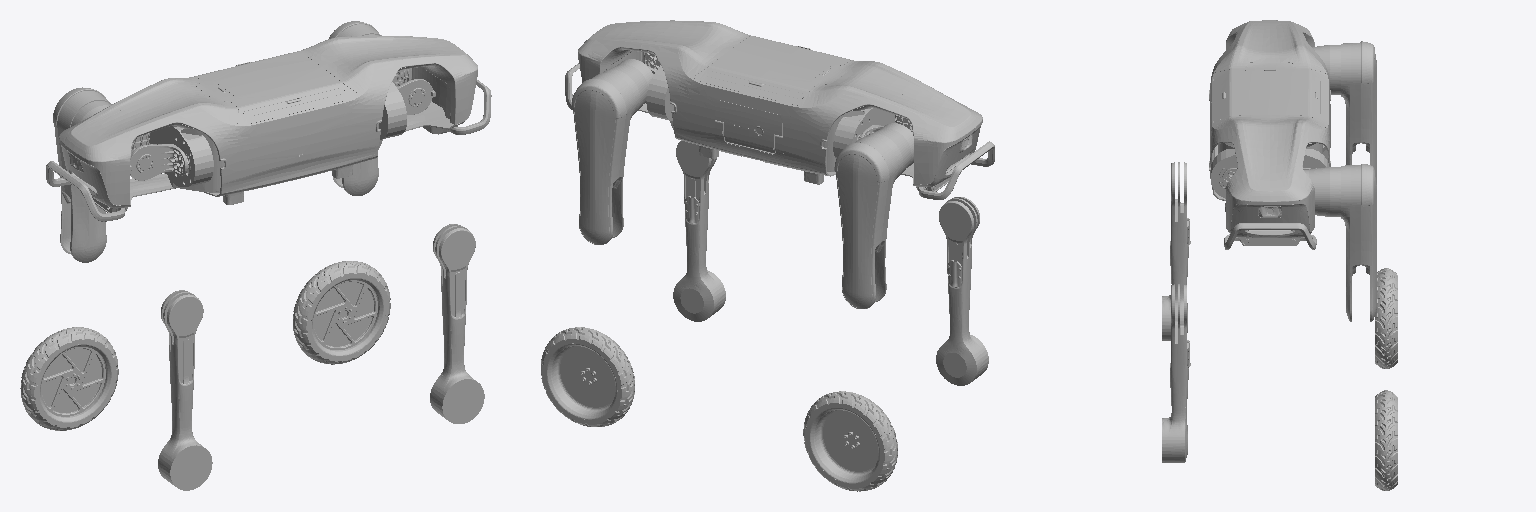
The robot description file, URDF, robot "dobot_quad_wheel":
<?xml version="1.0" ?>
<!-- =================================================================================== -->
<!-- |    This document was autogenerated by xacro from dobot_quad_wheel.xacro         | -->
<!-- |    EDITING THIS FILE BY HAND IS NOT RECOMMENDED                                 | -->
<!-- =================================================================================== -->
<robot name="dobot_quad_wheel">
  <mujoco>
    <compiler balanceinertia="true" discardvisual="false" meshdir="../meshes/"/>
  </mujoco>
  <!-- <link name="world">
</link> -->
  <link name="link_trunk">
    <inertial>
      <origin rpy="0 0 0" xyz="0.002447 0.00046 0.002851"/>
      <mass value="10.249"/>
      <inertia ixx="45881.970E-06" ixy="16.957E-06" ixz="177.574E-06" iyy="247797.819E-06" iyz="41.872E-06" izz="268476.829E-06"/>
    </inertial>
    <visual>
      <origin rpy="0 0 0" xyz="0 0 0"/>
      <geometry>
        <mesh filename="package://dobot_quad_wheel/meshes/trunk.STL" scale="1 1 1"/>
      </geometry>
      <material name="">
        <color rgba="0.752941176470588 0.752941176470588 0.752941176470588 1"/>
      </material>
    </visual>
    <collision>
      <origin rpy="0 0 0" xyz="0 0 0"/>
      <geometry>
        <box size="0.70 0.18 0.12"/>
      </geometry>
    </collision>
  </link>
  <!-- <joint name="joint_fixed_world" type="floating">
    <origin rpy="0 0 0" xyz="0 0 0.5"/>
    <parent link="world"/>
    <child link="link_trunk"/>
  </joint> -->
  <link name="link_front_left_hip">
    <inertial>
      <origin rpy="0 0 0" xyz="-0.02418 -0.01744 0.0"/>
      <mass value="0.05576"/>
      <inertia ixx="21.088E-06" ixy="1.169e-05" ixz="0.0" iyy="52.90E-06" iyz="0.0" izz="50.03E-06"/>
    </inertial>
    <visual>
      <origin rpy="0 0 0" xyz="0 0 0"/>
      <geometry>
        <mesh filename="package://dobot_quad_wheel/meshes/hip.STL" scale="1 1 1"/>
      </geometry>
      <material name="">
        <color rgba="0.752941176470588 0.752941176470588 0.752941176470588 1"/>
      </material>
    </visual>
    <collision>
      <origin rpy="1.5708 0 0" xyz="0 0.08 0"/>
      <geometry>
        <cylinder length="0.04" radius="0.048"/>
      </geometry>
    </collision>
  </link>
  <joint name="joint_front_left_abad" type="revolute">
    <origin rpy="0 0 0" xyz="0.2525 0.062 0"/>
    <parent link="link_trunk"/>
    <child link="link_front_left_hip"/>
    <axis xyz="1 0 0"/>
    <limit effort="23" lower="-0.6632" upper="0.6632" velocity="21"/>
    <armature value="0.01"/>
  </joint>
  <link name="link_front_left_thigh">
    <inertial>
      <origin rpy="0 0 0" xyz="0.00144 -0.04127 -0.02940"/>
      <mass value="1.71551"/>
      <inertia ixx="10737.08420E-06" ixy="-8.637171e-05" ixz="0.00021687284" iyy="8548.74788E-06" iyz="0.00213125546" izz="3618.27220E-06"/>
    </inertial>
    <visual>
      <origin rpy="0 0 0" xyz="0 0 0"/>
      <!-- <geometry>
       <mesh filename="package://dobot_quad_wheel/meshes/thigh.STL" scale="1 ${1*y_sign} 1" />
     </geometry> -->
      <geometry>
        <mesh filename="package://dobot_quad_wheel/meshes/thigh_l.STL" scale="1 1 1"/>
      </geometry>
      <material name="">
        <color rgba="0.752941176470588 0.752941176470588 0.752941176470588 1"/>
      </material>
    </visual>
    <collision>
      <origin rpy="0 1.5708 0" xyz="0.0 0.0 -0.1075"/>
      <geometry>
        <box size="0.215 0.04 0.06"/>
      </geometry>
    </collision>
  </link>
  <joint name="joint_front_left_thigh_pitch" type="revolute">
    <origin rpy="0 0 0" xyz="0.0  0.097 0.0"/>
    <parent link="link_front_left_hip"/>
    <child link="link_front_left_thigh"/>
    <axis xyz="0 1 0"/>
    <limit effort="23" lower="-2.618" upper="2.618" velocity="23"/>
    <armature value="0.01"/>
  </joint>
  <link name="link_front_left_calf">
    <inertial>
      <origin rpy="0 0 0" xyz="0.0 0.01 -0.202"/>
      <mass value="0.641"/>
      <inertia ixx="6643.060E-06" ixy="0.405E-06" ixz="-1.140E-06" iyy="6732.526E-06" iyz="0.000421766" izz="318.170E-06"/>
    </inertial>
    <visual>
      <origin rpy="0 0 0" xyz="0 0 0"/>
      <!-- <geometry>
       <mesh
         filename="package://dobot_quad_wheel/meshes/calf.STL" scale="1 1 1" />
     </geometry> -->
      <geometry>
        <mesh filename="package://dobot_quad_wheel/meshes/calf_l.STL" scale="1 1 1"/>
      </geometry>
      <material name="">
        <color rgba="0.752941176470588 0.752941176470588 0.752941176470588 1"/>
      </material>
    </visual>
    <collision>
      <origin rpy="0 0 0" xyz="0.0 0.0 -0.12"/>
      <geometry>
        <cylinder length="0.265" radius="0.02"/>
      </geometry>
    </collision>
    <!--   <collision>
     <origin rpy="0 0 0" xyz="0.018 0 -0.16" />
     <geometry>
       <cylinder length="0.065" radius="0.011" />
     </geometry>
   </collision>-->
  </link>
  <joint name="joint_front_left_calf_pitch" type="revolute">
    <origin rpy="0 0 0" xyz="0.0 0.0 -0.215"/>
    <parent link="link_front_left_thigh"/>
    <child link="link_front_left_calf"/>
    <axis xyz="0 1 0"/>
    <limit effort="55" lower="-2.53" upper="2.53" velocity="21"/>
    <armature value="0.025"/>
  </joint>
  <link name="link_front_left_wheel">
    <inertial>
      <origin rpy="0 0 0" xyz="0 0.009 0"/>
      <mass value="0.546"/>
      <inertia ixx="1361.419E-06" ixy="0" ixz="0" iyy="2586.621E-06" iyz="0" izz="1361.554E-06"/>
    </inertial>
    <visual>
      <origin rpy="0 0 0" xyz="0 0 0"/>
      <!-- <geometry>
       <mesh
         filename="package://dobot_quad_wheel/meshes/wheel.STL" scale="1 1 1" />
     </geometry> -->
      <geometry>
        <mesh filename="package://dobot_quad_wheel/meshes/wheel_l.STL" scale="1 1 1"/>
      </geometry>
      <material name="">
        <color rgba="0.752941176470588 0.752941176470588 0.752941176470588 1"/>
      </material>
    </visual>
    <collision>
      <origin rpy="1.5707963267948966 0 0" xyz="0 0.014 0"/>
      <geometry>
        <cylinder length="0.037" radius="0.0875"/>
      </geometry>
    </collision>
  </link>
  <joint name="joint_front_left_wheel" type="continuous">
    <origin rpy="0 0 0" xyz="0 0.0335 -0.265"/>
    <parent link="link_front_left_calf"/>
    <child link="link_front_left_wheel"/>
    <axis xyz="0 1 0"/>
    <limit effort="20" velocity="30"/>
    <armature value="0.002"/>
  </joint>
  <link name="link_front_right_hip">
    <inertial>
      <origin rpy="0 0 0" xyz="-0.02418 0.01744 0.0"/>
      <mass value="0.05576"/>
      <inertia ixx="21.088E-06" ixy="-1.169e-05" ixz="0.0" iyy="52.90E-06" iyz="-0.0" izz="50.03E-06"/>
    </inertial>
    <visual>
      <origin rpy="3.141592653589793 0 0" xyz="0 0 0"/>
      <geometry>
        <mesh filename="package://dobot_quad_wheel/meshes/hip.STL" scale="1 1 1"/>
      </geometry>
      <material name="">
        <color rgba="0.752941176470588 0.752941176470588 0.752941176470588 1"/>
      </material>
    </visual>
    <collision>
      <origin rpy="1.5708 0 0" xyz="0 -0.08 0"/>
      <geometry>
        <cylinder length="0.04" radius="0.048"/>
      </geometry>
    </collision>
  </link>
  <joint name="joint_front_right_abad" type="revolute">
    <origin rpy="0 0 0" xyz="0.2525 -0.062 0"/>
    <parent link="link_trunk"/>
    <child link="link_front_right_hip"/>
    <axis xyz="1 0 0"/>
    <limit effort="23" lower="-0.6632" upper="0.6632" velocity="21"/>
    <armature value="0.01"/>
  </joint>
  <link name="link_front_right_thigh">
    <inertial>
      <origin rpy="0 0 0" xyz="0.00144 0.04127 -0.02940"/>
      <mass value="1.71551"/>
      <inertia ixx="10737.08420E-06" ixy="8.637171e-05" ixz="0.00021687284" iyy="8548.74788E-06" iyz="-0.00213125546" izz="3618.27220E-06"/>
    </inertial>
    <visual>
      <origin rpy="0 0 0" xyz="0 0 0"/>
      <!-- <geometry>
       <mesh filename="package://dobot_quad_wheel/meshes/thigh.STL" scale="1 ${1*y_sign} 1" />
     </geometry> -->
      <geometry>
        <mesh filename="package://dobot_quad_wheel/meshes/thigh_r.STL" scale="1 -1 1"/>
      </geometry>
      <material name="">
        <color rgba="0.752941176470588 0.752941176470588 0.752941176470588 1"/>
      </material>
    </visual>
    <collision>
      <origin rpy="0 1.5708 0" xyz="0.0 0.0 -0.1075"/>
      <geometry>
        <box size="0.215 0.04 0.06"/>
      </geometry>
    </collision>
  </link>
  <joint name="joint_front_right_thigh_pitch" type="revolute">
    <origin rpy="0 0 0" xyz="0.0  -0.097 0.0"/>
    <parent link="link_front_right_hip"/>
    <child link="link_front_right_thigh"/>
    <axis xyz="0 1 0"/>
    <limit effort="23" lower="-2.618" upper="2.618" velocity="23"/>
    <armature value="0.01"/>
  </joint>
  <link name="link_front_right_calf">
    <inertial>
      <origin rpy="0 0 0" xyz="0.0 -0.01 -0.202"/>
      <mass value="0.641"/>
      <inertia ixx="6643.060E-06" ixy="0.405E-06" ixz="-1.140E-06" iyy="6732.526E-06" iyz="-0.000421766" izz="318.170E-06"/>
    </inertial>
    <visual>
      <origin rpy="0 0 0" xyz="0 0 0"/>
      <!-- <geometry>
       <mesh
         filename="package://dobot_quad_wheel/meshes/calf.STL" scale="1 1 1" />
     </geometry> -->
      <geometry>
        <mesh filename="package://dobot_quad_wheel/meshes/calf_r.STL" scale="1 -1 1"/>
      </geometry>
      <material name="">
        <color rgba="0.752941176470588 0.752941176470588 0.752941176470588 1"/>
      </material>
    </visual>
    <collision>
      <origin rpy="0 0 0" xyz="0.0 0.0 -0.12"/>
      <geometry>
        <cylinder length="0.265" radius="0.02"/>
      </geometry>
    </collision>
    <!--   <collision>
     <origin rpy="0 0 0" xyz="0.018 0 -0.16" />
     <geometry>
       <cylinder length="0.065" radius="0.011" />
     </geometry>
   </collision>-->
  </link>
  <joint name="joint_front_right_calf_pitch" type="revolute">
    <origin rpy="0 0 0" xyz="0.0 0.0 -0.215"/>
    <parent link="link_front_right_thigh"/>
    <child link="link_front_right_calf"/>
    <axis xyz="0 1 0"/>
    <limit effort="55" lower="-2.53" upper="2.53" velocity="21"/>
    <armature value="0.025"/>
  </joint>
  <link name="link_front_right_wheel">
    <inertial>
      <origin rpy="0 0 0" xyz="0 -0.009 0"/>
      <mass value="0.546"/>
      <inertia ixx="1361.419E-06" ixy="0" ixz="0" iyy="2586.621E-06" iyz="0" izz="1361.554E-06"/>
    </inertial>
    <visual>
      <origin rpy="0 0 0" xyz="0 0 0"/>
      <!-- <geometry>
       <mesh
         filename="package://dobot_quad_wheel/meshes/wheel.STL" scale="1 1 1" />
     </geometry> -->
      <geometry>
        <mesh filename="package://dobot_quad_wheel/meshes/wheel_r.STL" scale="1 -1 1"/>
      </geometry>
      <material name="">
        <color rgba="0.752941176470588 0.752941176470588 0.752941176470588 1"/>
      </material>
    </visual>
    <collision>
      <origin rpy="1.5707963267948966 0 0" xyz="0 -0.014 0"/>
      <geometry>
        <cylinder length="0.037" radius="0.0875"/>
      </geometry>
    </collision>
  </link>
  <joint name="joint_front_right_wheel" type="continuous">
    <origin rpy="0 0 0" xyz="0 -0.0335 -0.265"/>
    <parent link="link_front_right_calf"/>
    <child link="link_front_right_wheel"/>
    <axis xyz="0 1 0"/>
    <limit effort="20" velocity="30"/>
    <armature value="0.002"/>
  </joint>
  <link name="link_rear_left_hip">
    <inertial>
      <origin rpy="0 0 0" xyz="0.02418 -0.01744 0.0"/>
      <mass value="0.05576"/>
      <inertia ixx="21.088E-06" ixy="-1.169e-05" ixz="-0.0" iyy="52.90E-06" iyz="0.0" izz="50.03E-06"/>
    </inertial>
    <visual>
      <origin rpy="0 3.141592653589793 0" xyz="0 0 0"/>
      <geometry>
        <mesh filename="package://dobot_quad_wheel/meshes/hip.STL" scale="1 1 1"/>
      </geometry>
      <material name="">
        <color rgba="0.752941176470588 0.752941176470588 0.752941176470588 1"/>
      </material>
    </visual>
    <collision>
      <origin rpy="1.5708 0 0" xyz="0 0.08 0"/>
      <geometry>
        <cylinder length="0.04" radius="0.048"/>
      </geometry>
    </collision>
  </link>
  <joint name="joint_rear_left_abad" type="revolute">
    <origin rpy="0 0 0" xyz="-0.2525 0.062 0"/>
    <parent link="link_trunk"/>
    <child link="link_rear_left_hip"/>
    <axis xyz="1 0 0"/>
    <limit effort="23" lower="-0.6632" upper="0.6632" velocity="21"/>
    <armature value="0.01"/>
  </joint>
  <link name="link_rear_left_thigh">
    <inertial>
      <origin rpy="0 0 0" xyz="-0.00144 -0.04127 -0.02940"/>
      <mass value="1.71551"/>
      <inertia ixx="10737.08420E-06" ixy="8.637171e-05" ixz="-0.00021687284" iyy="8548.74788E-06" iyz="0.00213125546" izz="3618.27220E-06"/>
    </inertial>
    <visual>
      <origin rpy="0 0 0" xyz="0 0 0"/>
      <!-- <geometry>
       <mesh filename="package://dobot_quad_wheel/meshes/thigh.STL" scale="1 ${1*y_sign} 1" />
     </geometry> -->
      <geometry>
        <mesh filename="package://dobot_quad_wheel/meshes/thigh_l.STL" scale="1 1 1"/>
      </geometry>
      <material name="">
        <color rgba="0.752941176470588 0.752941176470588 0.752941176470588 1"/>
      </material>
    </visual>
    <collision>
      <origin rpy="0 1.5708 0" xyz="0.0 0.0 -0.1075"/>
      <geometry>
        <box size="0.215 0.04 0.06"/>
      </geometry>
    </collision>
  </link>
  <joint name="joint_rear_left_thigh_pitch" type="revolute">
    <origin rpy="0 0 0" xyz="-0.0  0.097 0.0"/>
    <parent link="link_rear_left_hip"/>
    <child link="link_rear_left_thigh"/>
    <axis xyz="0 1 0"/>
    <limit effort="23" lower="-2.618" upper="2.618" velocity="21"/>
    <armature value="0.01"/>
  </joint>
  <link name="link_rear_left_calf">
    <inertial>
      <origin rpy="0 0 0" xyz="0.0 0.01 -0.202"/>
      <mass value="0.641"/>
      <inertia ixx="6643.060E-06" ixy="0.405E-06" ixz="-1.140E-06" iyy="6732.526E-06" iyz="0.000421766" izz="318.170E-06"/>
    </inertial>
    <visual>
      <origin rpy="0 0 0" xyz="0 0 0"/>
      <!-- <geometry>
       <mesh
         filename="package://dobot_quad_wheel/meshes/calf.STL" scale="1 1 1" />
     </geometry> -->
      <geometry>
        <mesh filename="package://dobot_quad_wheel/meshes/calf_l.STL" scale="1 1 1"/>
      </geometry>
      <material name="">
        <color rgba="0.752941176470588 0.752941176470588 0.752941176470588 1"/>
      </material>
    </visual>
    <collision>
      <origin rpy="0 0 0" xyz="0.0 0.0 -0.12"/>
      <geometry>
        <cylinder length="0.265" radius="0.02"/>
      </geometry>
    </collision>
    <!--   <collision>
     <origin rpy="0 0 0" xyz="0.018 0 -0.16" />
     <geometry>
       <cylinder length="0.065" radius="0.011" />
     </geometry>
   </collision>-->
  </link>
  <joint name="joint_rear_left_calf_pitch" type="revolute">
    <origin rpy="0 0 0" xyz="0.0 0.0 -0.215"/>
    <parent link="link_rear_left_thigh"/>
    <child link="link_rear_left_calf"/>
    <axis xyz="0 1 0"/>
    <limit effort="55" lower="-2.53" upper="2.53" velocity="21"/>
    <armature value="0.025"/>
  </joint>
  <link name="link_rear_left_wheel">
    <inertial>
      <origin rpy="0 0 0" xyz="0 0.009 0"/>
      <mass value="0.546"/>
      <inertia ixx="1361.419E-06" ixy="0" ixz="0" iyy="2586.621E-06" iyz="0" izz="1361.554E-06"/>
    </inertial>
    <visual>
      <origin rpy="0 0 0" xyz="0 0 0"/>
      <!-- <geometry>
       <mesh
         filename="package://dobot_quad_wheel/meshes/wheel.STL" scale="1 1 1" />
     </geometry> -->
      <geometry>
        <mesh filename="package://dobot_quad_wheel/meshes/wheel_l.STL" scale="1 1 1"/>
      </geometry>
      <material name="">
        <color rgba="0.752941176470588 0.752941176470588 0.752941176470588 1"/>
      </material>
    </visual>
    <collision>
      <origin rpy="1.5707963267948966 0 0" xyz="0 0.014 0"/>
      <geometry>
        <cylinder length="0.037" radius="0.0875"/>
      </geometry>
    </collision>
  </link>
  <joint name="joint_rear_left_wheel" type="continuous">
    <origin rpy="0 0 0" xyz="0 0.0335 -0.265"/>
    <parent link="link_rear_left_calf"/>
    <child link="link_rear_left_wheel"/>
    <axis xyz="0 1 0"/>
    <limit effort="20" velocity="30"/>
    <armature value="0.002"/>
  </joint>
  <link name="link_rear_right_hip">
    <inertial>
      <origin rpy="0 0 0" xyz="0.02418 0.01744 0.0"/>
      <mass value="0.05576"/>
      <inertia ixx="21.088E-06" ixy="1.169e-05" ixz="-0.0" iyy="52.90E-06" iyz="-0.0" izz="50.03E-06"/>
    </inertial>
    <visual>
      <origin rpy="3.141592653589793 3.141592653589793 0" xyz="0 0 0"/>
      <geometry>
        <mesh filename="package://dobot_quad_wheel/meshes/hip.STL" scale="1 1 1"/>
      </geometry>
      <material name="">
        <color rgba="0.752941176470588 0.752941176470588 0.752941176470588 1"/>
      </material>
    </visual>
    <collision>
      <origin rpy="1.5708 0 0" xyz="0 -0.08 0"/>
      <geometry>
        <cylinder length="0.04" radius="0.048"/>
      </geometry>
    </collision>
  </link>
  <joint name="joint_rear_right_abad" type="revolute">
    <origin rpy="0 0 0" xyz="-0.2525 -0.062 0"/>
    <parent link="link_trunk"/>
    <child link="link_rear_right_hip"/>
    <axis xyz="1 0 0"/>
    <limit effort="23" lower="-0.6632" upper="0.6632" velocity="21"/>
    <armature value="0.01"/>
  </joint>
  <link name="link_rear_right_thigh">
    <inertial>
      <origin rpy="0 0 0" xyz="-0.00144 0.04127 -0.02940"/>
      <mass value="1.71551"/>
      <inertia ixx="10737.08420E-06" ixy="-8.637171e-05" ixz="-0.00021687284" iyy="8548.74788E-06" iyz="-0.00213125546" izz="3618.27220E-06"/>
    </inertial>
    <visual>
      <origin rpy="0 0 0" xyz="0 0 0"/>
      <!-- <geometry>
       <mesh filename="package://dobot_quad_wheel/meshes/thigh.STL" scale="1 ${1*y_sign} 1" />
     </geometry> -->
      <geometry>
        <mesh filename="package://dobot_quad_wheel/meshes/thigh_r.STL" scale="1 -1 1"/>
      </geometry>
      <material name="">
        <color rgba="0.752941176470588 0.752941176470588 0.752941176470588 1"/>
      </material>
    </visual>
    <collision>
      <origin rpy="0 1.5708 0" xyz="0.0 0.0 -0.1075"/>
      <geometry>
        <box size="0.215 0.04 0.06"/>
      </geometry>
    </collision>
  </link>
  <joint name="joint_rear_right_thigh_pitch" type="revolute">
    <origin rpy="0 0 0" xyz="-0.0  -0.097 0.0"/>
    <parent link="link_rear_right_hip"/>
    <child link="link_rear_right_thigh"/>
    <axis xyz="0 1 0"/>
    <limit effort="23" lower="-2.618" upper="2.618" velocity="21"/>
    <armature value="0.01"/>
  </joint>
  <link name="link_rear_right_calf">
    <inertial>
      <origin rpy="0 0 0" xyz="0.0 -0.01 -0.202"/>
      <mass value="0.641"/>
      <inertia ixx="6643.060E-06" ixy="0.405E-06" ixz="-1.140E-06" iyy="6732.526E-06" iyz="-0.000421766" izz="318.170E-06"/>
    </inertial>
    <visual>
      <origin rpy="0 0 0" xyz="0 0 0"/>
      <!-- <geometry>
       <mesh
         filename="package://dobot_quad_wheel/meshes/calf.STL" scale="1 1 1" />
     </geometry> -->
      <geometry>
        <mesh filename="package://dobot_quad_wheel/meshes/calf_r.STL" scale="1 -1 1"/>
      </geometry>
      <material name="">
        <color rgba="0.752941176470588 0.752941176470588 0.752941176470588 1"/>
      </material>
    </visual>
    <collision>
      <origin rpy="0 0 0" xyz="0.0 0.0 -0.12"/>
      <geometry>
        <cylinder length="0.265" radius="0.02"/>
      </geometry>
    </collision>
    <!--   <collision>
     <origin rpy="0 0 0" xyz="0.018 0 -0.16" />
     <geometry>
       <cylinder length="0.065" radius="0.011" />
     </geometry>
   </collision>-->
  </link>
  <joint name="joint_rear_right_calf_pitch" type="revolute">
    <origin rpy="0 0 0" xyz="0.0 0.0 -0.215"/>
    <parent link="link_rear_right_thigh"/>
    <child link="link_rear_right_calf"/>
    <axis xyz="0 1 0"/>
    <limit effort="55" lower="-2.53" upper="2.53" velocity="21"/>
    <armature value="0.025"/>
  </joint>
  <link name="link_rear_right_wheel">
    <inertial>
      <origin rpy="0 0 0" xyz="0 -0.009 0"/>
      <mass value="0.546"/>
      <inertia ixx="1361.419E-06" ixy="0" ixz="0" iyy="2586.621E-06" iyz="0" izz="1361.554E-06"/>
    </inertial>
    <visual>
      <origin rpy="0 0 0" xyz="0 0 0"/>
      <!-- <geometry>
       <mesh
         filename="package://dobot_quad_wheel/meshes/wheel.STL" scale="1 1 1" />
     </geometry> -->
      <geometry>
        <mesh filename="package://dobot_quad_wheel/meshes/wheel_r.STL" scale="1 -1 1"/>
      </geometry>
      <material name="">
        <color rgba="0.752941176470588 0.752941176470588 0.752941176470588 1"/>
      </material>
    </visual>
    <collision>
      <origin rpy="1.5707963267948966 0 0" xyz="0 -0.014 0"/>
      <geometry>
        <cylinder length="0.037" radius="0.0875"/>
      </geometry>
    </collision>
  </link>
  <joint name="joint_rear_right_wheel" type="continuous">
    <origin rpy="0 0 0" xyz="0 -0.0335 -0.265"/>
    <parent link="link_rear_right_calf"/>
    <child link="link_rear_right_wheel"/>
    <axis xyz="0 1 0"/>
    <limit effort="20" velocity="30"/>
    <armature value="0.002"/>
  </joint>
</robot>

--- Facts derived from the render (not from the file) ---
Views: 3 orthographic renders of the robot side by side, from view 1: azimuth 30°, elevation 25°; view 2: azimuth 150°, elevation 25°; view 3: azimuth 270°, elevation 25°.
Robot: dobot_quad_wheel — 17 links, 16 joints (12 revolute, 4 continuous); root link link_trunk; default pose: all joints at 0.
Links seen in each view (by area): view 1: link_trunk, link_front_left_wheel, link_rear_left_wheel, link_front_right_calf, link_rear_right_calf, link_rear_left_thigh, link_rear_right_hip, link_front_left_thigh, link_front_right_hip; view 2: link_trunk, link_rear_left_thigh, link_front_left_thigh, link_rear_left_wheel, link_front_left_wheel, link_rear_right_calf, link_front_right_calf; view 3: link_trunk, link_front_left_thigh, link_rear_left_thigh, link_front_right_calf, link_rear_right_calf, link_front_left_wheel, link_rear_left_wheel.
Link boxes in pixels (x1=…): link_trunk: x1=46, y1=36, x2=491, y2=221; link_front_left_wheel: x1=293, y1=261, x2=390, y2=364; link_rear_left_wheel: x1=20, y1=327, x2=118, y2=430; link_front_right_calf: x1=430, y1=224, x2=484, y2=423; link_rear_right_calf: x1=158, y1=290, x2=212, y2=490; link_rear_left_thigh: x1=53, y1=87, x2=112, y2=262; link_rear_right_hip: x1=130, y1=144, x2=188, y2=180; link_front_left_thigh: x1=329, y1=21, x2=411, y2=195; link_front_right_hip: x1=397, y1=79, x2=435, y2=114; link_trunk: x1=565, y1=20, x2=994, y2=199; link_rear_left_thigh: x1=834, y1=123, x2=913, y2=308; link_front_left_thigh: x1=572, y1=59, x2=653, y2=244; link_rear_left_wheel: x1=803, y1=391, x2=897, y2=491; link_front_left_wheel: x1=541, y1=327, x2=634, y2=426; link_rear_right_calf: x1=936, y1=197, x2=988, y2=385; link_front_right_calf: x1=673, y1=141, x2=725, y2=321; link_trunk: x1=1209, y1=20, x2=1330, y2=249; link_front_left_thigh: x1=1304, y1=164, x2=1376, y2=321; link_rear_left_thigh: x1=1312, y1=41, x2=1376, y2=181; link_front_right_calf: x1=1162, y1=284, x2=1190, y2=462; link_rear_right_calf: x1=1162, y1=162, x2=1190, y2=340; link_front_left_wheel: x1=1375, y1=390, x2=1397, y2=490; link_rear_left_wheel: x1=1375, y1=268, x2=1397, y2=368.
Size in the robot's own frame: 0.7615 by 0.412 by 0.657 metres.
Meshes: 8 distinct files referenced, 11 mesh visuals loaded (5 binary STL); not drawn: 6 (reference not matched to a file when rendering).
